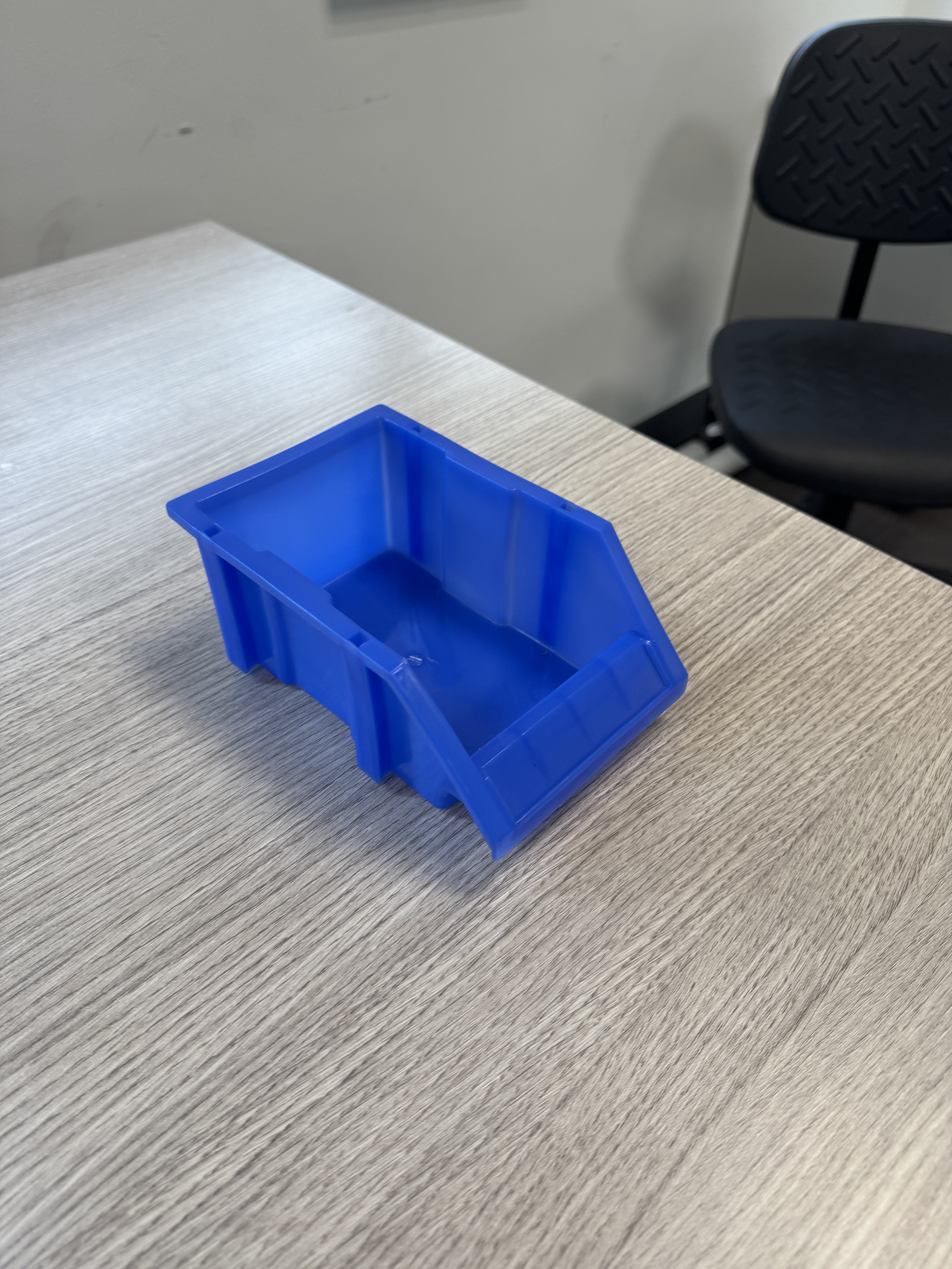Bin Boundary: (198, 325, 666, 778)
